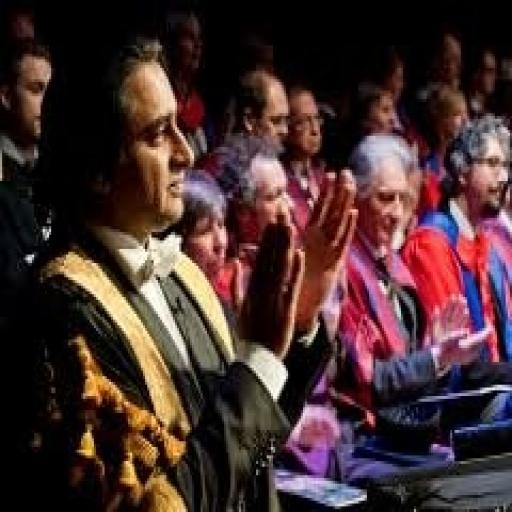clapping: (0, 31, 403, 512)
